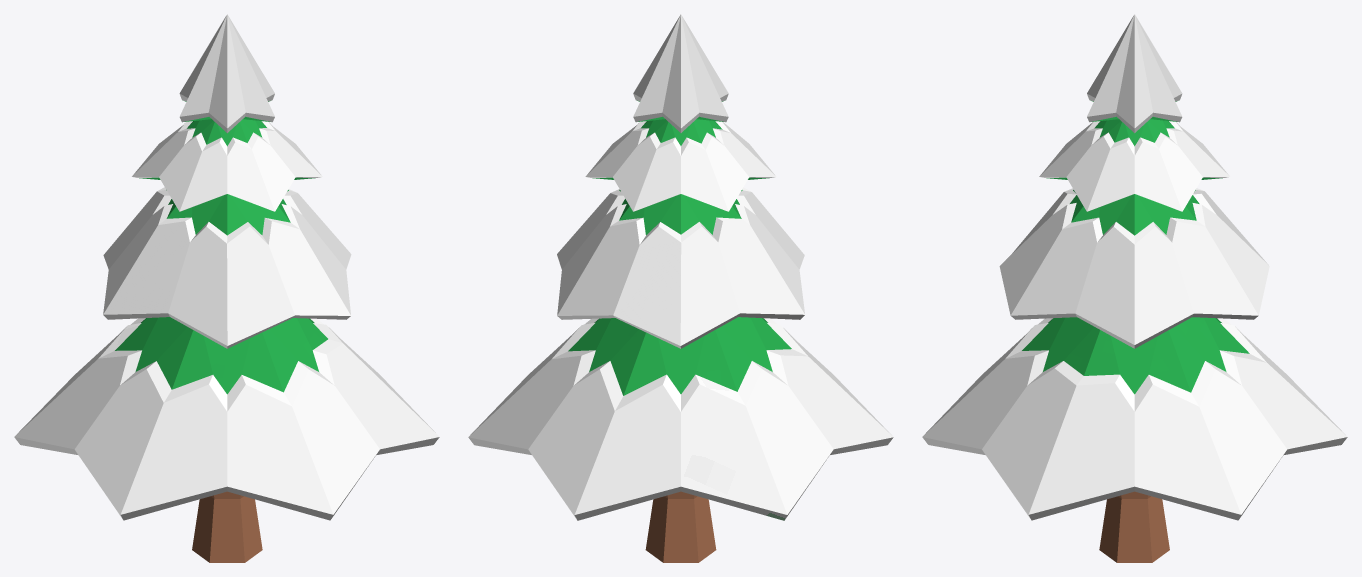
File: snowtree.fbx
3 renders of one model, left to right at view 1: azimuth 30°, elevation 25°; view 2: azimuth 150°, elevation 25°; view 3: azimuth 270°, elevation 25°, orthographic.
Visible parts, largest first — view 1: Tree Snowy; view 2: Tree Snowy; view 3: Tree Snowy.
Boxes of the visible parts, x1,y1,x2,y2 form: Tree Snowy: (14,14,439,562); Tree Snowy: (468,14,893,562); Tree Snowy: (922,14,1347,562).
Size of the model in its own units: 184 by 295 by 213.
Materials: 1 (1 with a texture image).
